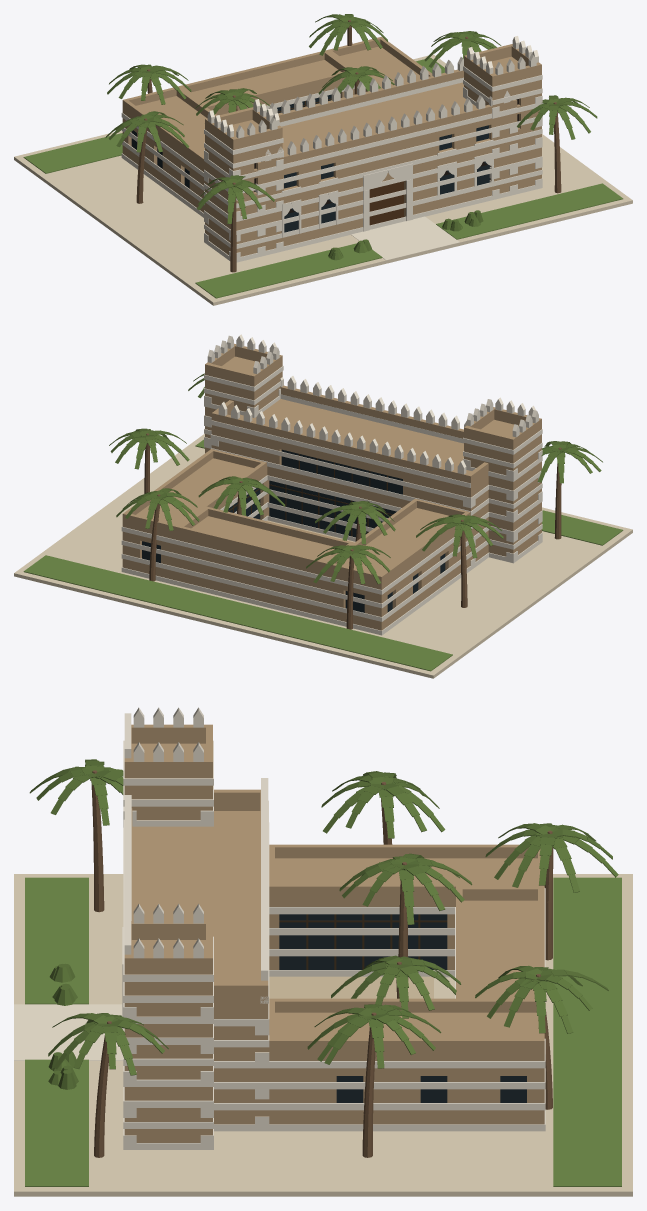
The model's file is tabuki.glb.
3 views of the same model, one above another, from view 1: azimuth 30°, elevation 25°; view 2: azimuth 150°, elevation 25°; view 3: azimuth 270°, elevation 25° (orthographic). The views are drawn at different scales.
Visible parts, largest first — view 1: Tabuki_stone, Tabuki_plaster, Tabuki_pave, Tabuki_leaf, Tabuki_lawn, Tabuki_coping, Tabuki_glass, Tabuki_trunk, Tabuki_door; view 2: Tabuki_stone, Tabuki_plaster, Tabuki_pave, Tabuki_lawn, Tabuki_leaf, Tabuki_glass, Tabuki_trunk, Tabuki_frame; view 3: Tabuki_stone, Tabuki_pave, Tabuki_lawn, Tabuki_plaster, Tabuki_leaf, Tabuki_glass, Tabuki_trunk, Tabuki_coping, Tabuki_court, Tabuki_frame.
Part boxes in pixels (x1,y1,x2,y2): Tabuki_stone: (122,36,541,256); Tabuki_plaster: (121,36,542,262); Tabuki_pave: (14,54,632,305); Tabuki_leaf: (105,14,597,260); Tabuki_lawn: (23,57,623,298); Tabuki_coping: (351,216,459,260); Tabuki_glass: (131,94,490,232); Tabuki_trunk: (136,20,561,272); Tabuki_door: (369,181,403,225); Tabuki_stone: (122,343,541,630); Tabuki_plaster: (121,334,542,635); Tabuki_pave: (14,433,632,678); Tabuki_lawn: (23,439,623,671); Tabuki_leaf: (109,373,602,584); Tabuki_glass: (142,449,445,612); Tabuki_trunk: (144,433,561,629); Tabuki_frame: (228,454,392,536); Tabuki_stone: (124,724,544,1142); Tabuki_pave: (14,874,632,1196); Tabuki_lawn: (25,877,621,1186); Tabuki_plaster: (122,707,545,1149); Tabuki_leaf: (29,759,618,1089); Tabuki_glass: (279,914,526,1102); Tabuki_trunk: (90,770,553,1157); Tabuki_coping: (14,1004,123,1060); Tabuki_court: (269,976,433,998); Tabuki_frame: (279,914,447,969).
Size of the model in its own units: 34 by 10.67 by 28.
